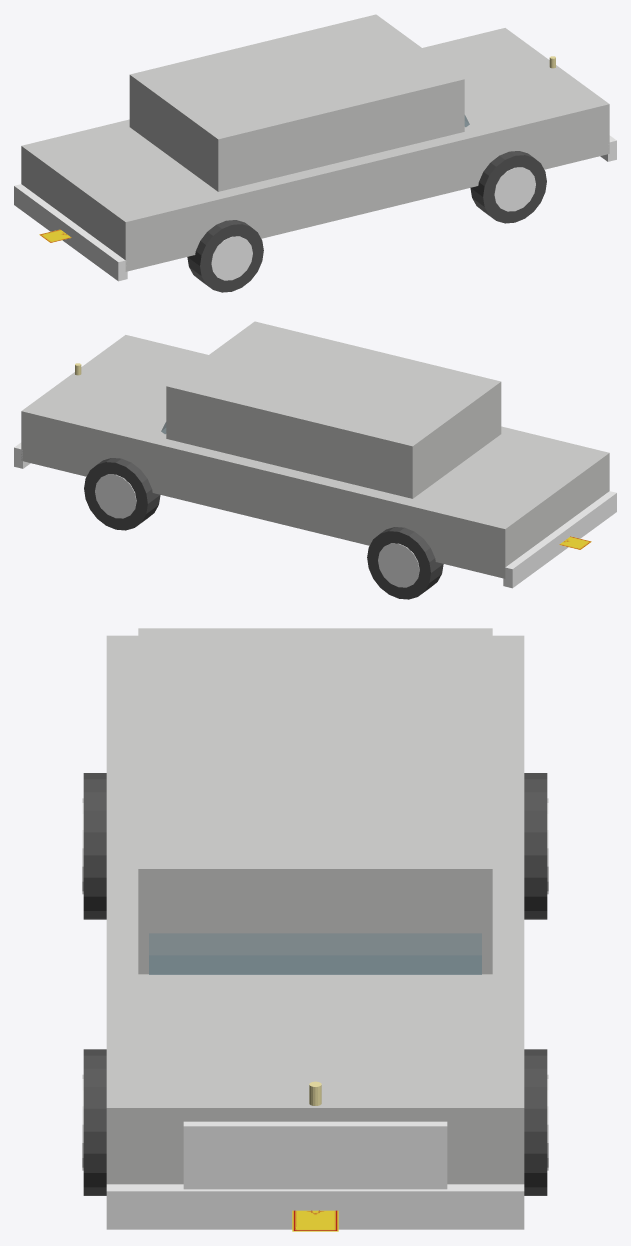
File: cadillac_deville.glb
3 views of the same model, one above another, from view 1: azimuth 30°, elevation 25°; view 2: azimuth 150°, elevation 25°; view 3: azimuth 270°, elevation 25° (orthographic). The views are drawn at different scales.
Visible parts, largest first — view 1: Saul_Cadillac_body, Saul_Cadillac_cabin, Saul_Cadillac_br, Saul_Cadillac_wr_r_tire, Saul_Cadillac_wf_r_tire, Saul_Cadillac_wf_r_rim, Saul_Cadillac_wr_r_rim; view 2: Saul_Cadillac_body, Saul_Cadillac_cabin, Saul_Cadillac_br, Saul_Cadillac_wr_l_tire, Saul_Cadillac_wf_l_tire, Saul_Cadillac_wf_l_rim, Saul_Cadillac_wr_l_rim; view 3: Saul_Cadillac_cabin, Saul_Cadillac_body, Saul_Cadillac_grille, Saul_Cadillac_bf, Saul_Cadillac_ws, Saul_Cadillac_wf_l_tire, Saul_Cadillac_wf_r_tire, Saul_Cadillac_wr_l_tire, Saul_Cadillac_wr_r_tire, Saul_Cadillac_plate_f.
Part boxes in pixels (<box>): Saul_Cadillac_body: <box>21,28,609,271</box>; Saul_Cadillac_cabin: <box>129,14,464,191</box>; Saul_Cadillac_br: <box>14,184,127,281</box>; Saul_Cadillac_wr_r_tire: <box>187,220,263,292</box>; Saul_Cadillac_wf_r_tire: <box>470,151,546,223</box>; Saul_Cadillac_wf_r_rim: <box>494,167,535,211</box>; Saul_Cadillac_wr_r_rim: <box>211,236,252,280</box>; Saul_Cadillac_body: <box>21,335,609,578</box>; Saul_Cadillac_cabin: <box>166,321,501,498</box>; Saul_Cadillac_br: <box>503,491,616,588</box>; Saul_Cadillac_wr_l_tire: <box>367,527,443,599</box>; Saul_Cadillac_wf_l_tire: <box>84,458,160,530</box>; Saul_Cadillac_wf_l_rim: <box>95,474,136,518</box>; Saul_Cadillac_wr_l_rim: <box>378,543,419,587</box>; Saul_Cadillac_cabin: <box>138,628,492,974</box>; Saul_Cadillac_body: <box>106,635,524,1184</box>; Saul_Cadillac_grille: <box>183,1121,447,1189</box>; Saul_Cadillac_bf: <box>106,1184,524,1229</box>; Saul_Cadillac_ws: <box>149,933,481,974</box>; Saul_Cadillac_wf_l_tire: <box>524,1049,547,1195</box>; Saul_Cadillac_wf_r_tire: <box>83,1049,106,1195</box>; Saul_Cadillac_wr_l_tire: <box>524,773,547,919</box>; Saul_Cadillac_wr_r_tire: <box>83,773,106,919</box>; Saul_Cadillac_plate_f: <box>292,1210,338,1231</box>.
Bounding box in the file's own units: 5.93 × 1.49 × 2.21.
Materials: 8 (1 with a texture image).
